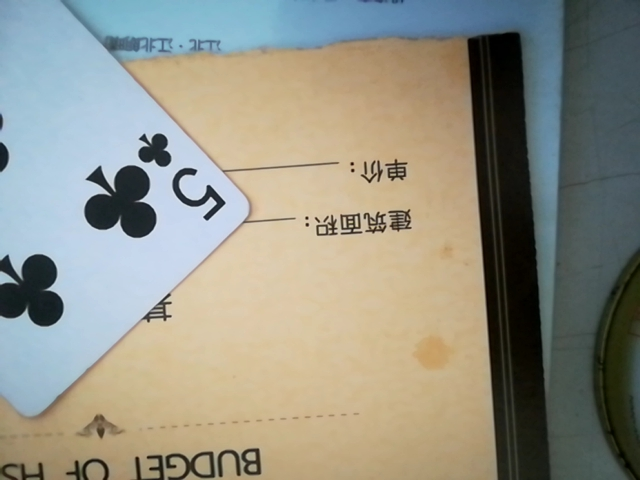mh 5: (0, 0, 257, 426)
